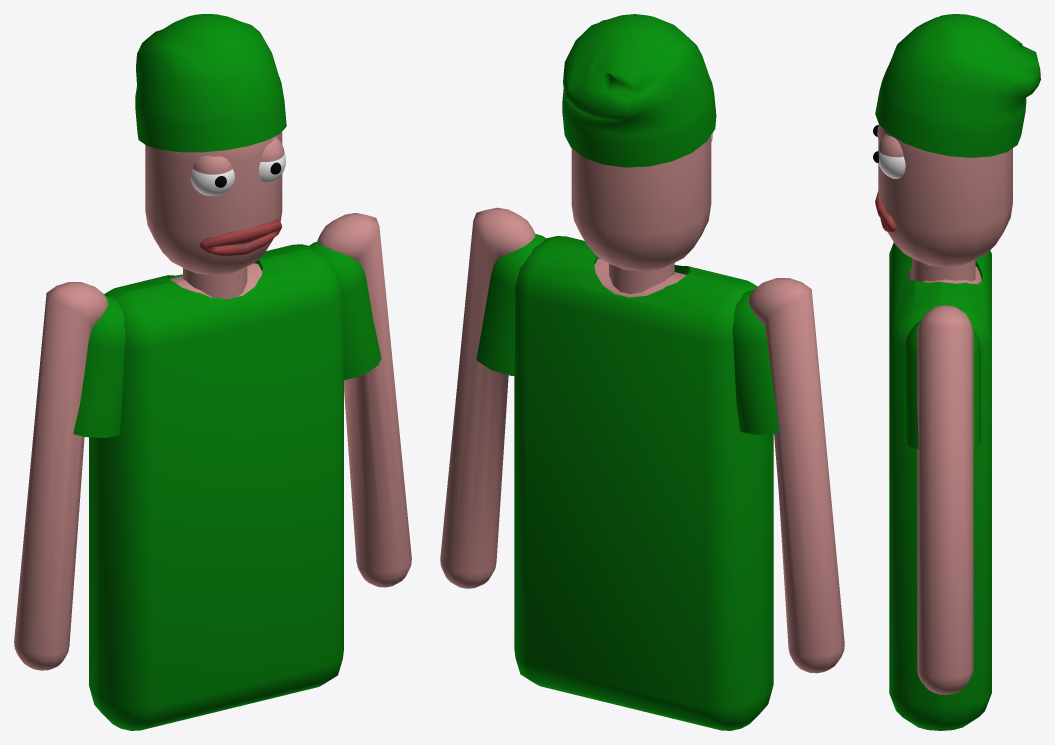
Rendered from guy_dressed.fbx.
The picture shows the model from 3 angles, left to right: view 1: azimuth 30°, elevation 25°; view 2: azimuth 150°, elevation 25°; view 3: azimuth 270°, elevation 25°; orthographic projection. The views are drawn at different scales.
Parts seen in each view (by area): view 1: ChamferBox003, Capsule003, Capsule007, Capsule002, Capsule001, Capsule006, Capsule005, Torus001, Cylinder003, Sphere003; view 2: ChamferBox003, Capsule003, Capsule007, Capsule002, Capsule001, Capsule006, Capsule005, Cylinder003, ChamferBox002; view 3: ChamferBox003, Capsule002, Capsule007, Capsule001, Capsule005, Cylinder003, Sphere005, Sphere008, Torus001, ChamferBox002.
Part boxes in pixels (x1,y1,x2,y2): ChamferBox003: [89, 244, 343, 730]; Capsule003: [14, 282, 107, 670]; Capsule007: [135, 14, 286, 152]; Capsule002: [317, 213, 411, 587]; Capsule001: [145, 132, 282, 275]; Capsule006: [73, 295, 125, 438]; Capsule005: [309, 242, 381, 380]; Torus001: [199, 219, 281, 256]; Cylinder003: [183, 267, 247, 299]; Sphere003: [190, 169, 234, 196]; ChamferBox003: [514, 236, 773, 730]; Capsule003: [748, 278, 844, 673]; Capsule007: [562, 14, 716, 167]; Capsule002: [440, 207, 535, 588]; Capsule001: [571, 135, 711, 271]; Capsule006: [732, 290, 779, 434]; Capsule005: [476, 234, 545, 375]; Cylinder003: [609, 263, 674, 294]; ChamferBox002: [594, 258, 686, 297]; ChamferBox003: [889, 242, 991, 730]; Capsule002: [917, 305, 973, 694]; Capsule007: [875, 14, 1040, 157]; Capsule001: [878, 124, 1012, 267]; Capsule005: [904, 319, 980, 449]; Cylinder003: [912, 258, 975, 281]; Sphere005: [878, 148, 905, 178]; Sphere008: [879, 134, 903, 157]; Torus001: [875, 191, 896, 231]; ChamferBox002: [907, 266, 981, 284].
Size of the model in its own units: 70.25 by 117 by 26.69.
